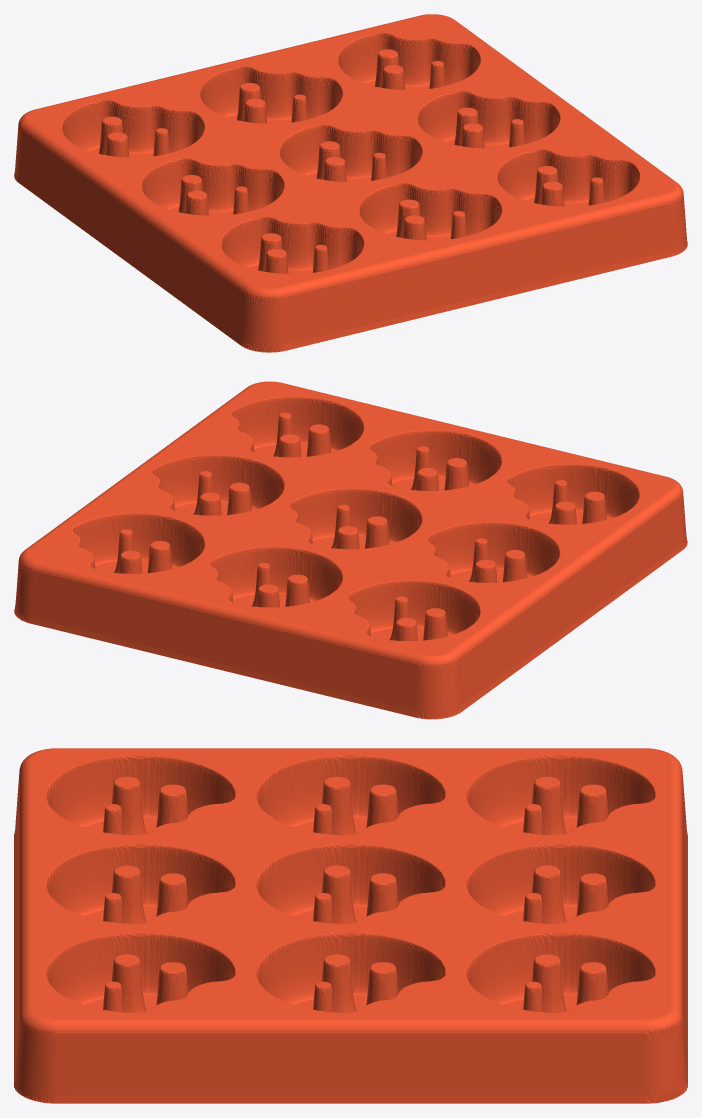
File: mold.glb
3 renders of one model, top to bottom at view 1: azimuth 30°, elevation 25°; view 2: azimuth 150°, elevation 25°; view 3: azimuth 270°, elevation 25°, orthographic. The views are drawn at different scales.
Parts seen in each view (by area): view 1: geometry_0; view 2: geometry_0; view 3: geometry_0.
Boxes of the visible parts, bbox=[...] form: geometry_0: bbox=[14, 14, 687, 352]; geometry_0: bbox=[14, 381, 687, 719]; geometry_0: bbox=[14, 748, 687, 1103].
Size of the model in its own units: 0.1387 by 0.0175 by 0.1387.
